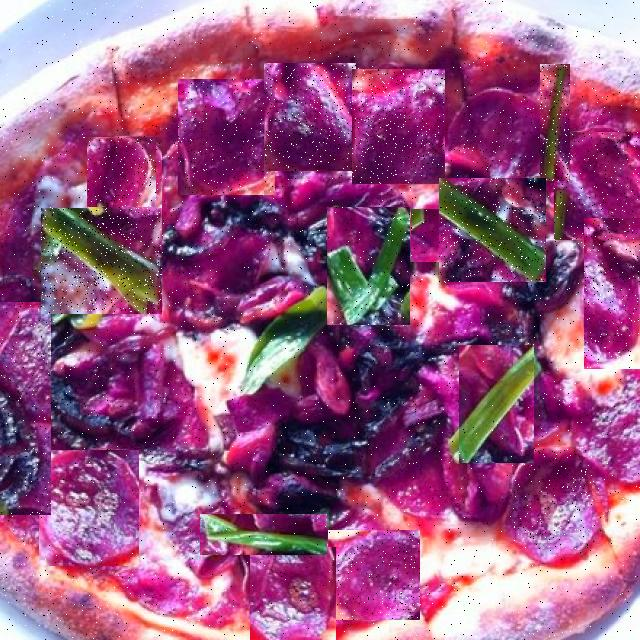Basil: (41, 208, 162, 314), (439, 178, 546, 282), (327, 207, 410, 325), (238, 291, 330, 397), (459, 345, 534, 463), (200, 514, 327, 555), (540, 64, 570, 181)
Pepperoni: (39, 450, 139, 566), (178, 79, 275, 195), (0, 302, 51, 515), (352, 69, 445, 184), (264, 63, 356, 171), (554, 132, 640, 240), (513, 448, 595, 552), (584, 218, 640, 369), (328, 530, 421, 620), (250, 547, 336, 640), (459, 90, 545, 176), (579, 368, 640, 464), (88, 138, 158, 212), (98, 136, 162, 215), (411, 209, 448, 262)
Pizza: (0, 0, 640, 640)
